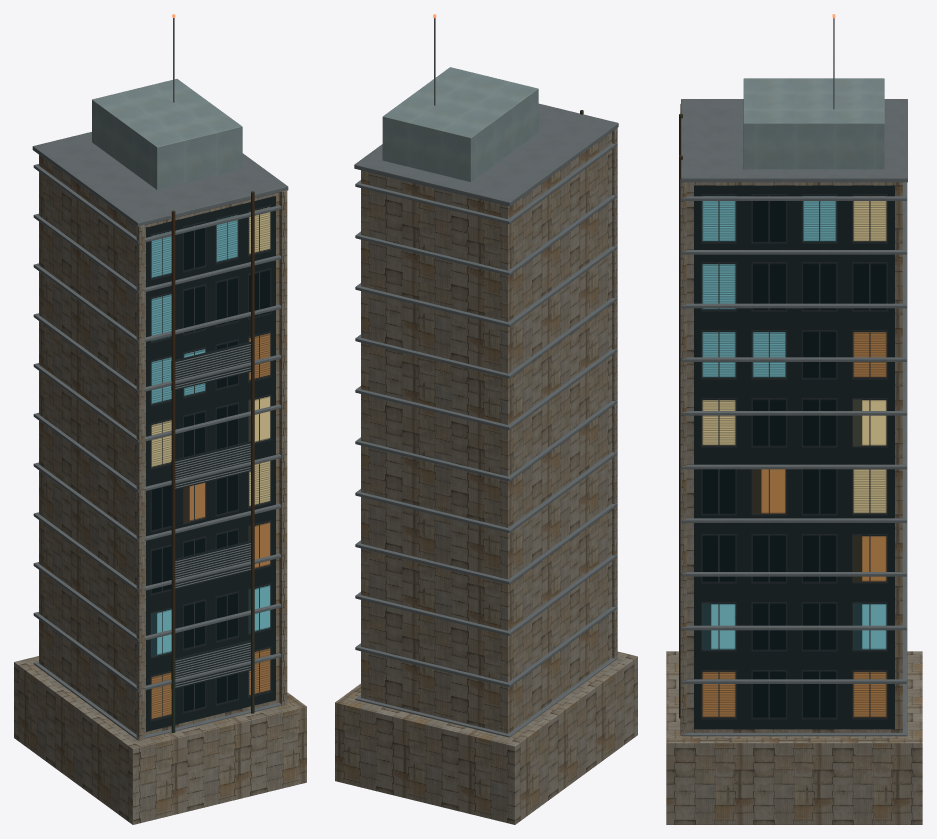
The model's file is NC_Building_service_LOD0.fbx.
3 views of the same model, side by side, from view 1: azimuth 30°, elevation 25°; view 2: azimuth 150°, elevation 25°; view 3: azimuth 270°, elevation 25° (orthographic). The views are drawn at different scales.
Parts seen in each view (by area): view 1: NC_Building_service_LOD0; view 2: NC_Building_service_LOD0; view 3: NC_Building_service_LOD0.
Part boxes in pixels (left/top/right/bottom): NC_Building_service_LOD0: left=14, top=14, right=306, bottom=824; NC_Building_service_LOD0: left=335, top=14, right=637, bottom=824; NC_Building_service_LOD0: left=666, top=14, right=922, bottom=824.
Size of the model in its own units: 1100 by 4370 by 1300.
